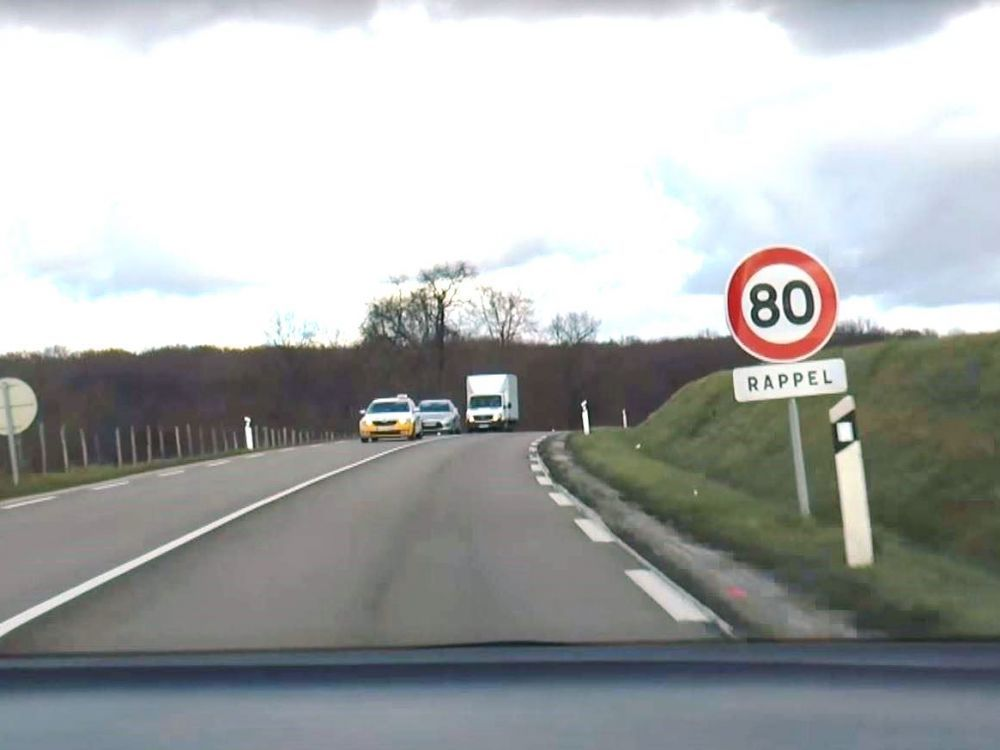Speed_limit_80km: (728, 246, 838, 360)
